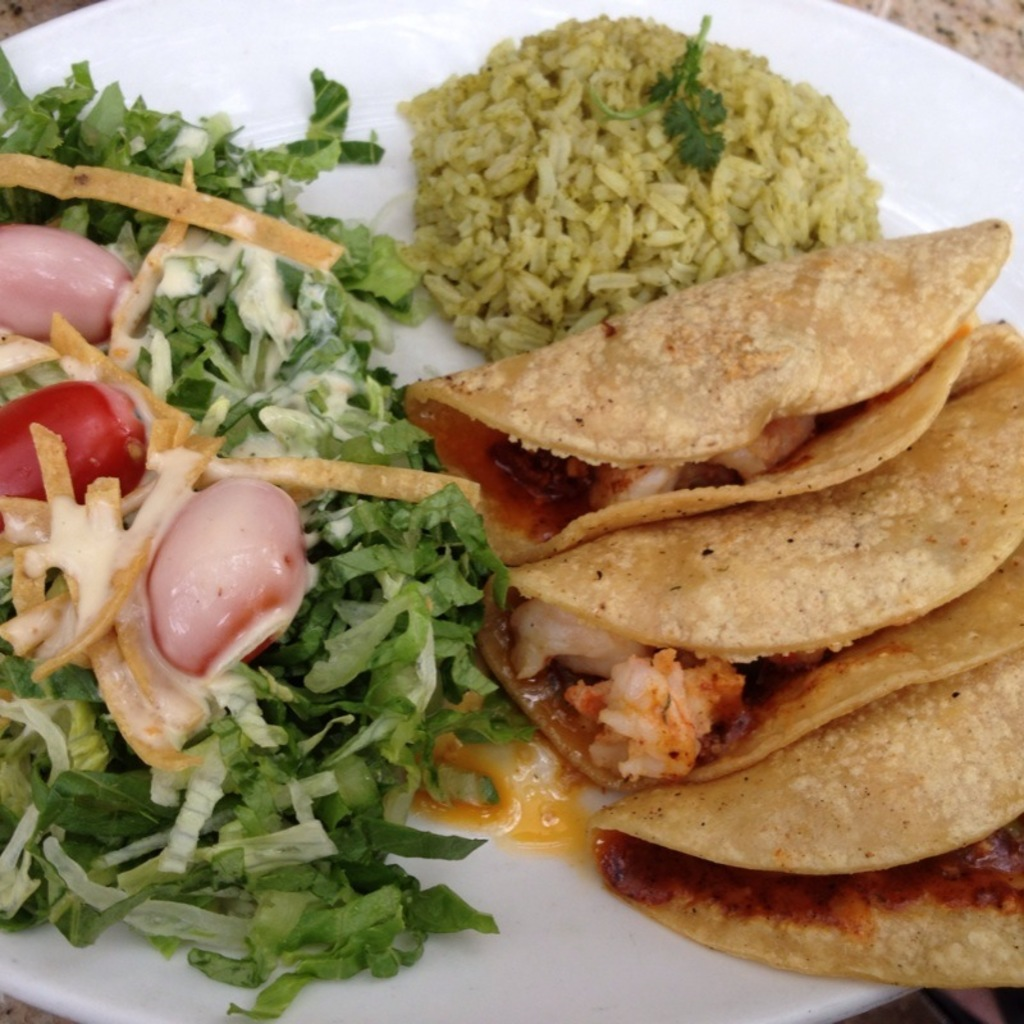taco: (113, 49, 982, 979), (488, 378, 1023, 777), (591, 659, 1023, 1005)
